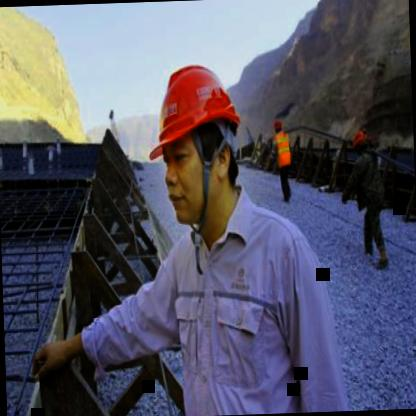helmet: (143, 44, 251, 236), (349, 126, 370, 154)
